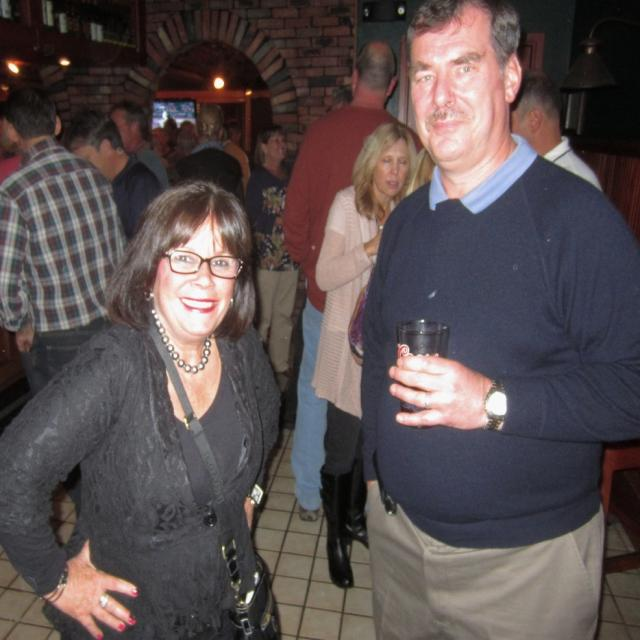Glasses: (161, 250, 245, 278)
